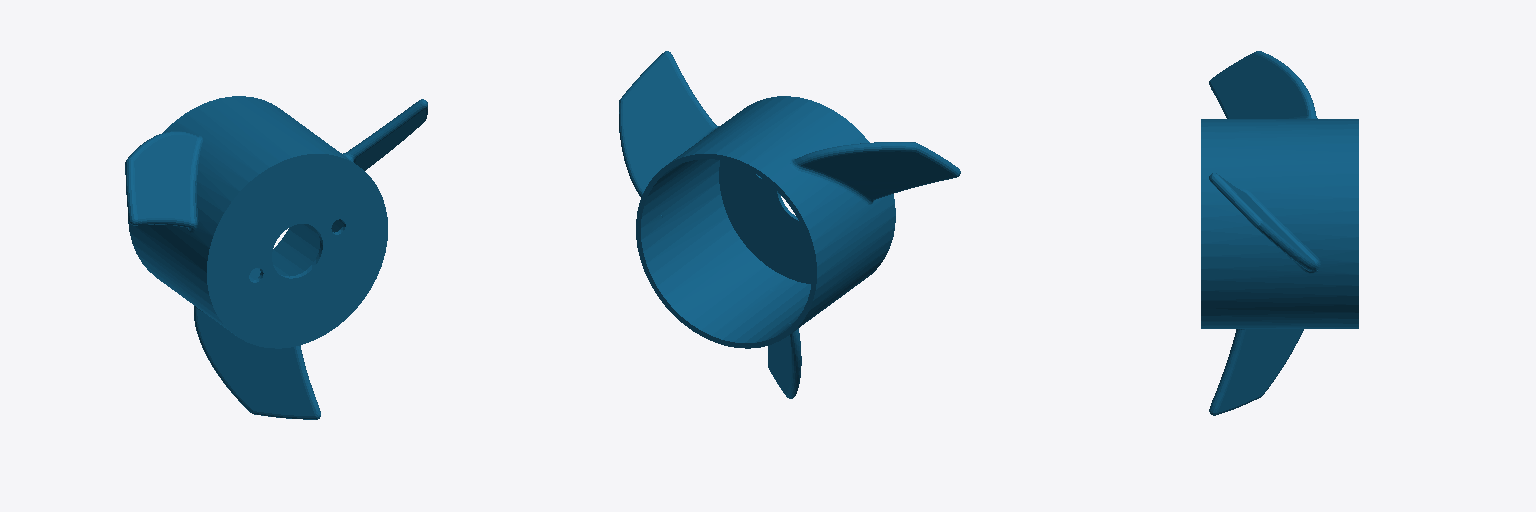
The model's file is t200_ccw_prop.obj.
The picture shows the model from 3 angles: view 1: azimuth 30°, elevation 25°; view 2: azimuth 150°, elevation 25°; view 3: azimuth 270°, elevation 25°; orthographic projection.
Parts seen in each view (by area): view 1: obj1; view 2: obj1; view 3: obj1.
Boxes of the visible parts, box(x1,y1,x2,y2) form: obj1: box(125, 96, 427, 419); obj1: box(619, 51, 960, 398); obj1: box(1201, 51, 1358, 415).
Bounding box in the file's own units: 0.0701 × 0.0622 × 0.03.